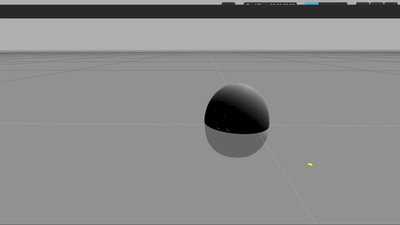mira_robot: (205, 83, 270, 158)
